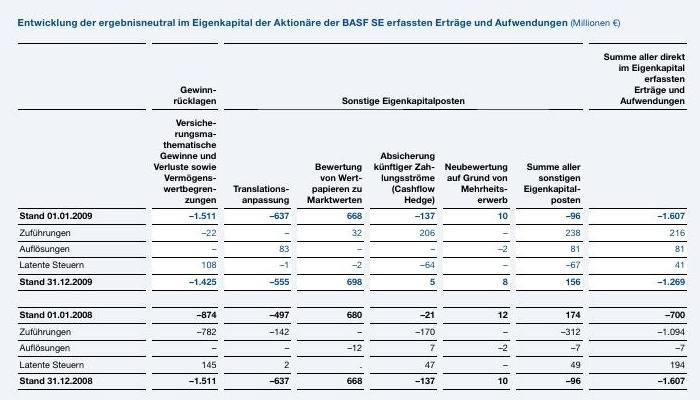table: (0, 0, 700, 400)
